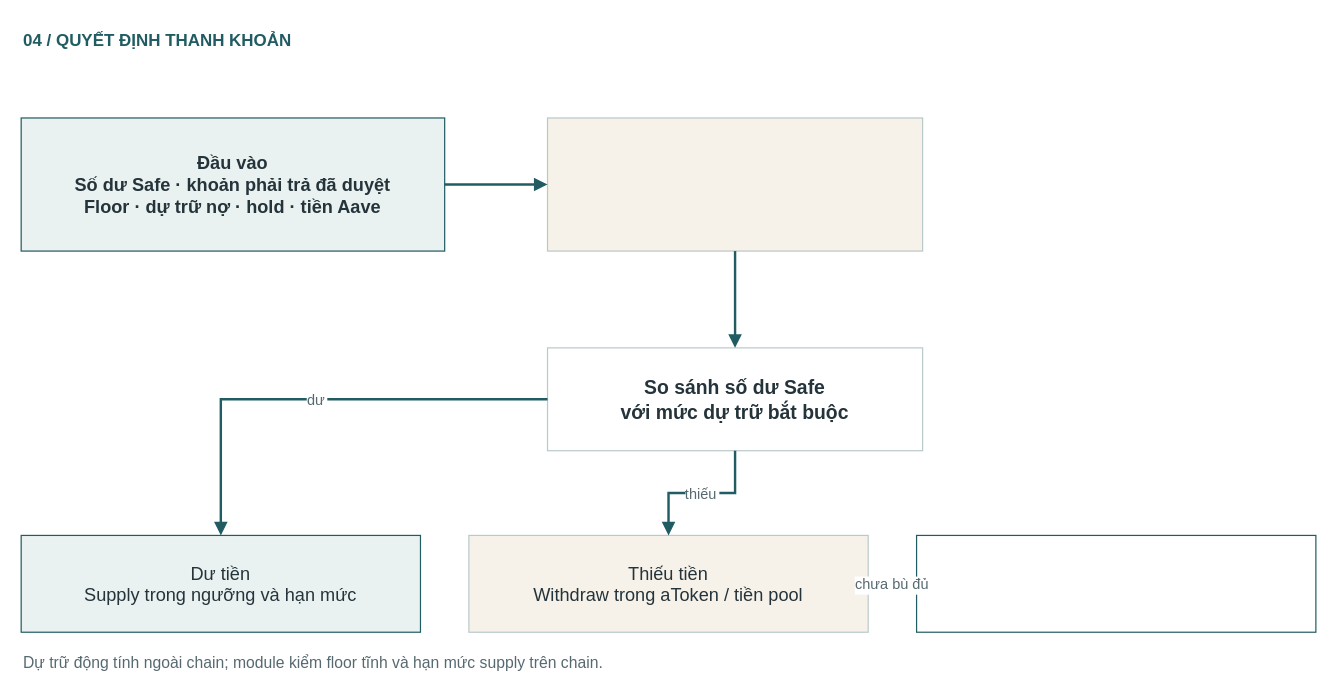
The diagram is 1337 pixels wide and 695 high, and some of its shapes have lost their labels. Each missing label, with the centre of its shape:
Dự trữ Safe bắt buộc Thanh toán + floor + nợ + hold: (x=734, y=184)
Vẫn thiếu Quyết định không đủ thanh khoản: (x=1115, y=583)
